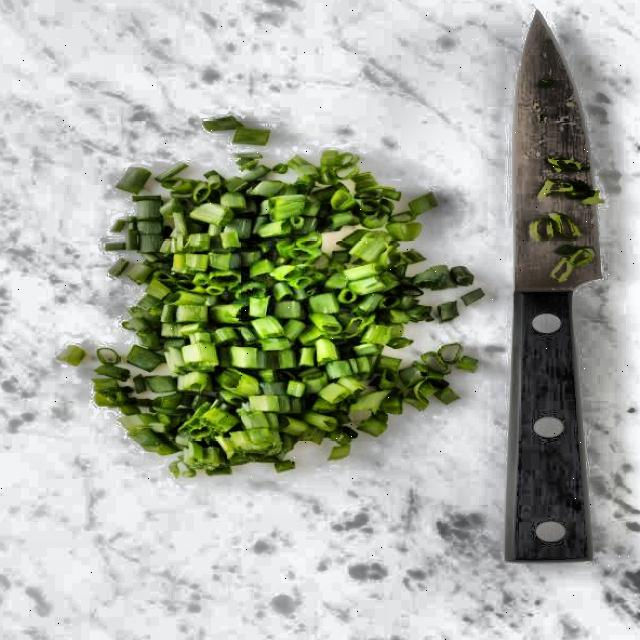knife: (505, 1, 617, 572)
